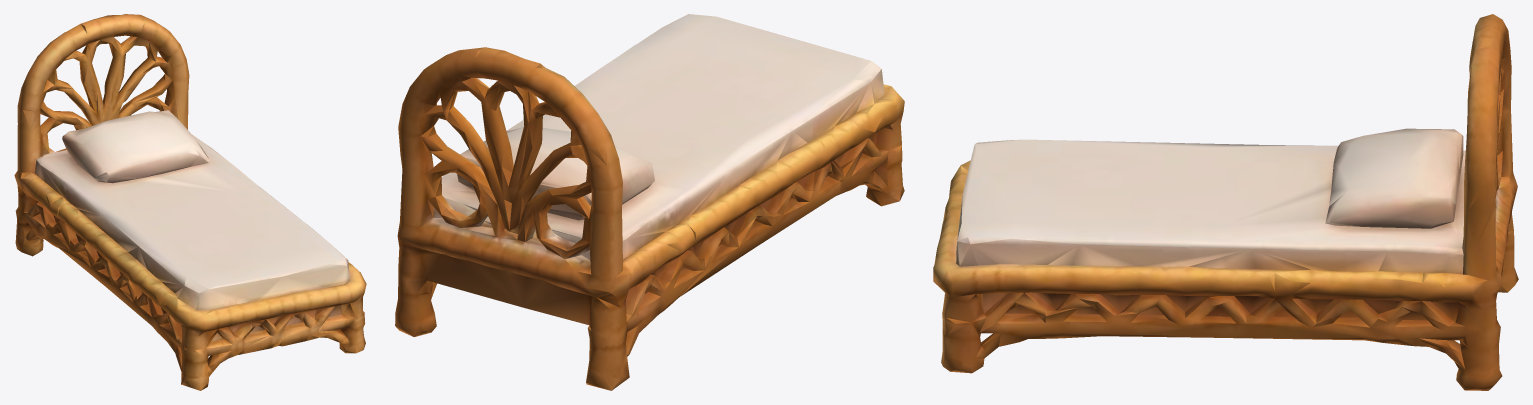
Rendered from bed11.glb.
3 views of the same model, side by side, from view 1: azimuth 30°, elevation 25°; view 2: azimuth 150°, elevation 25°; view 3: azimuth 270°, elevation 25° (orthographic). The views are drawn at different scales.
Bounding box in the file's own units: 0.1724 × 0.1901 × 0.3288.
Materials: 1 (1 with a texture image).
